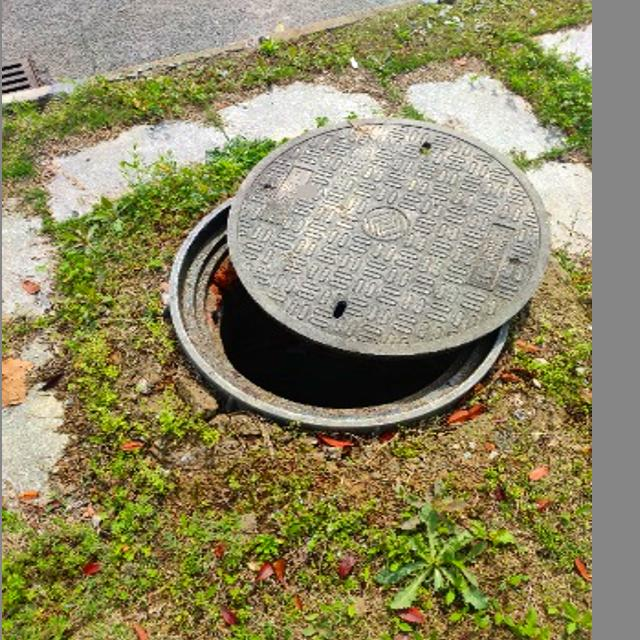uncovered: (170, 117, 554, 427)
